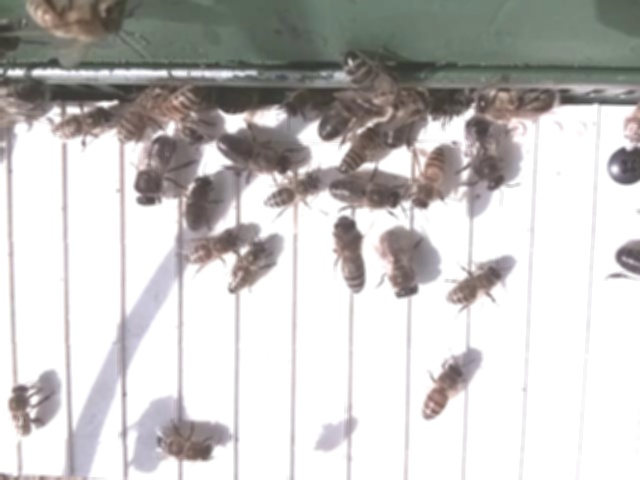Drone: (213, 129, 292, 177), (130, 132, 176, 213), (460, 116, 506, 195), (324, 173, 403, 213), (375, 230, 418, 301), (314, 93, 356, 148)
Worker: (418, 360, 464, 428), (442, 262, 505, 310), (331, 216, 366, 300), (409, 144, 449, 216), (259, 169, 324, 213), (179, 228, 239, 272), (152, 427, 217, 466), (337, 126, 382, 179), (49, 108, 110, 146), (224, 242, 266, 297), (181, 173, 217, 236), (4, 380, 38, 445)
